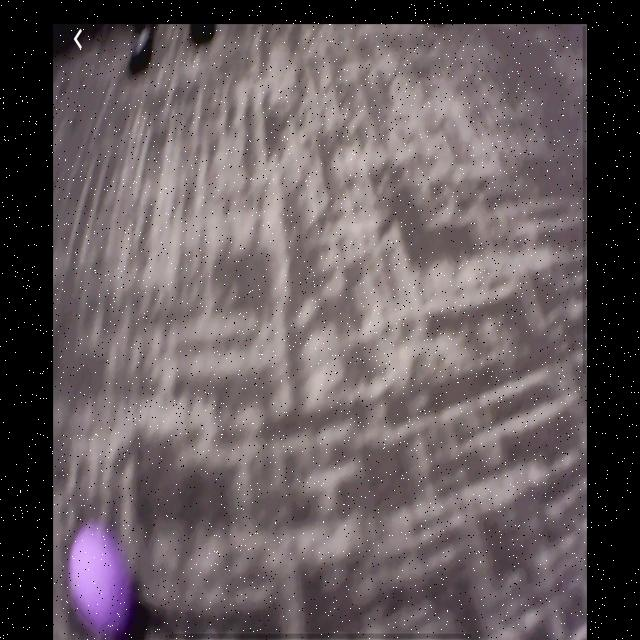ball: (68, 523, 134, 634)
